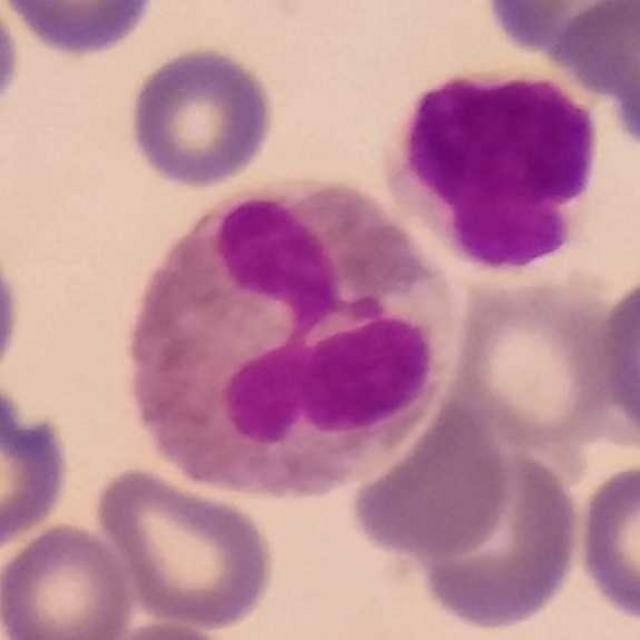eosino: (127, 175, 463, 498)
